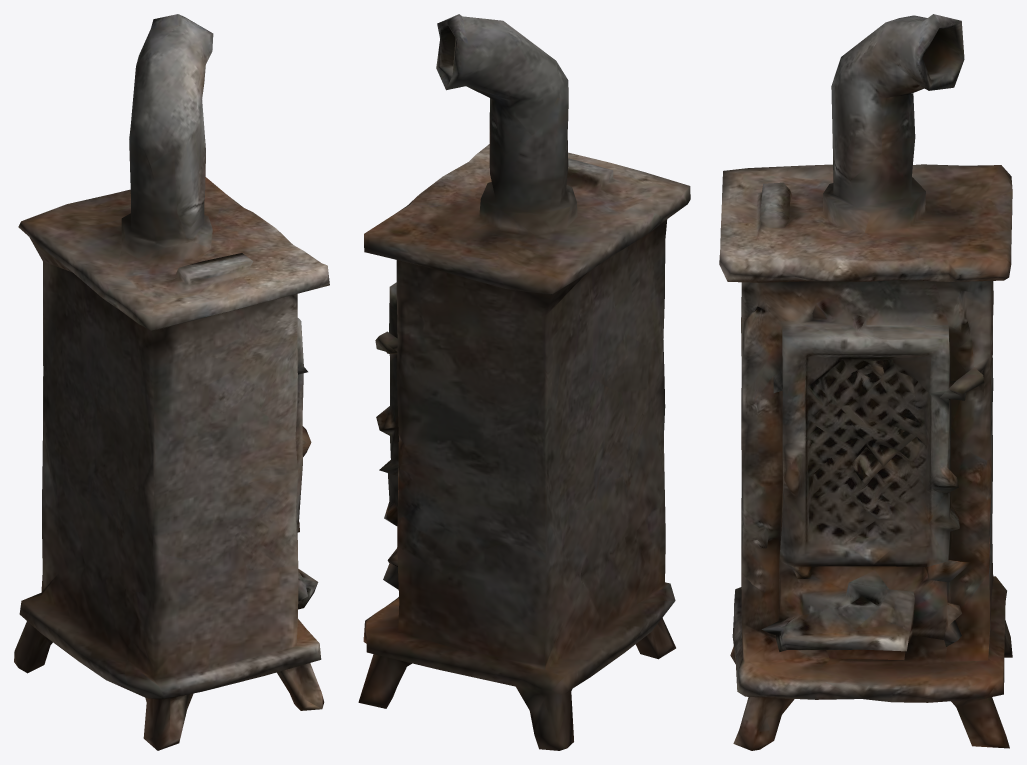
File: e_burzhuyka.glb
3 views of the same model, side by side, from view 1: azimuth 30°, elevation 25°; view 2: azimuth 150°, elevation 25°; view 3: azimuth 270°, elevation 25° (orthographic). The views are drawn at different scales.
Visible parts, largest first — view 1: tripo_node_0b8af59a-129f-473a-88f0-43207c0aaa43; view 2: tripo_node_0b8af59a-129f-473a-88f0-43207c0aaa43; view 3: tripo_node_0b8af59a-129f-473a-88f0-43207c0aaa43.
Boxes of the visible parts, x1,y1,x2,y2 form: tripo_node_0b8af59a-129f-473a-88f0-43207c0aaa43: (14,14,329,750); tripo_node_0b8af59a-129f-473a-88f0-43207c0aaa43: (358,14,690,750); tripo_node_0b8af59a-129f-473a-88f0-43207c0aaa43: (719,14,1012,750).
Size of the model in its own units: 0.335 by 1 by 0.3777.
1 material, 1 textured.
